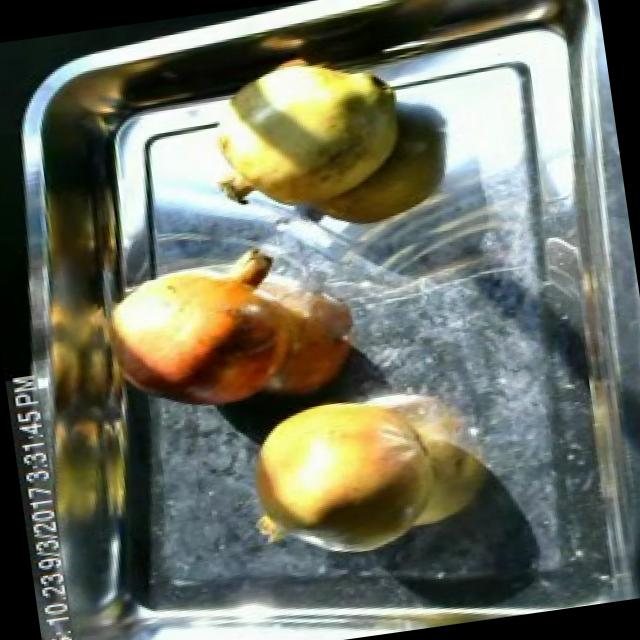fruit: (229, 376, 466, 582), (195, 44, 424, 229), (95, 244, 311, 426)
